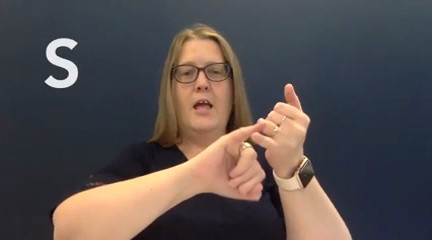S: (183, 80, 321, 208)
